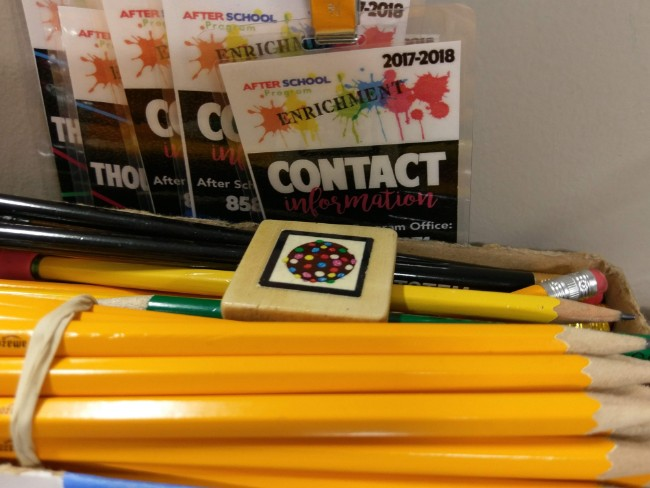cookie: (273, 229, 367, 298)
